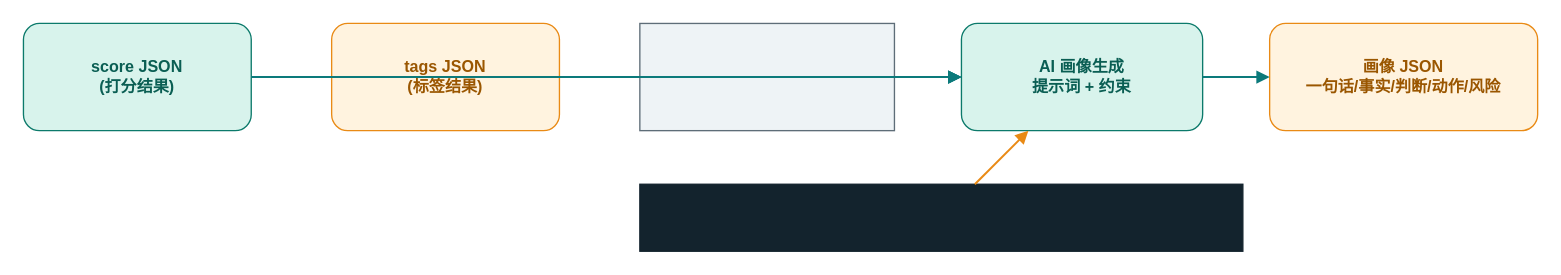
This 1561x275 diagram has some shape labels left out. Each missing label, with the centre of its shape:
"Knowhow K3 场景模板 · K4 动作库（支撑画像判断与推荐）" goes at (x=941, y=217).
"明细摘要 订单/库存/竞品/协议" goes at (x=766, y=76).
